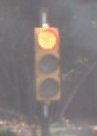Red: (30, 20, 61, 116)
